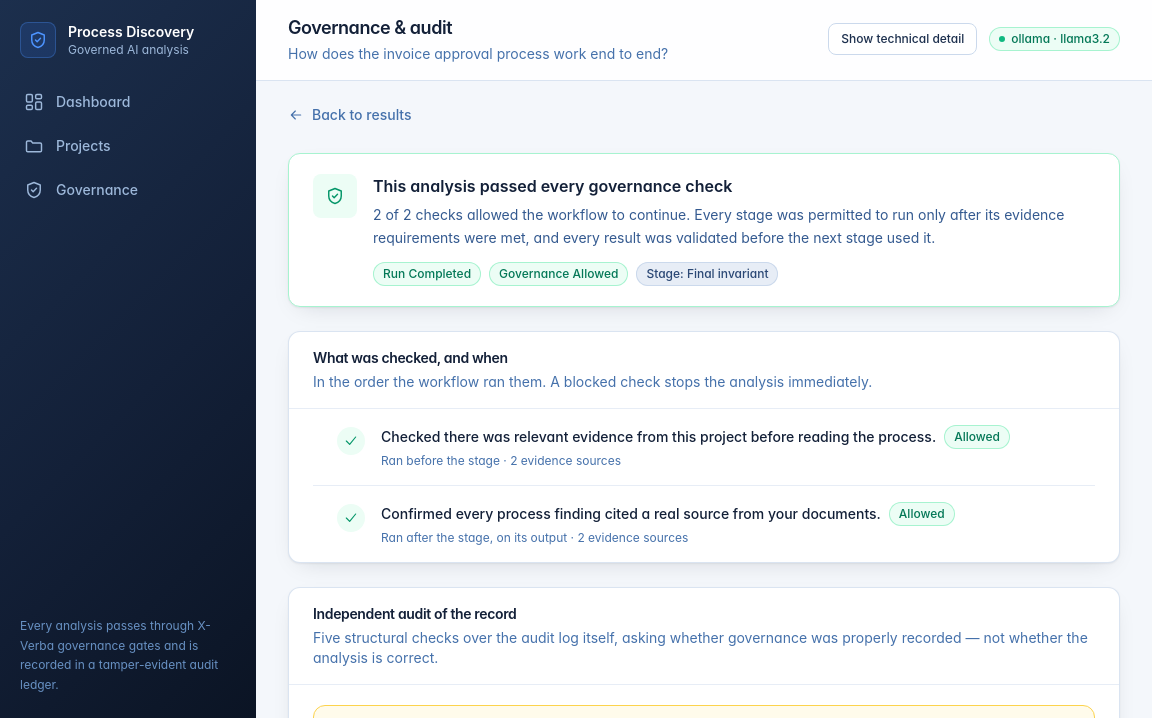
it: Governance and audit › hides jargon until the reader asks for it
The image size is (1152, 718).
expect the heading "This analysis passed every governance check" is shown: met, box [373,176,732,196]
Step 1. Click the button "Show technical detail" → click(903, 39), box [828,23,977,55]
(page scrolled)
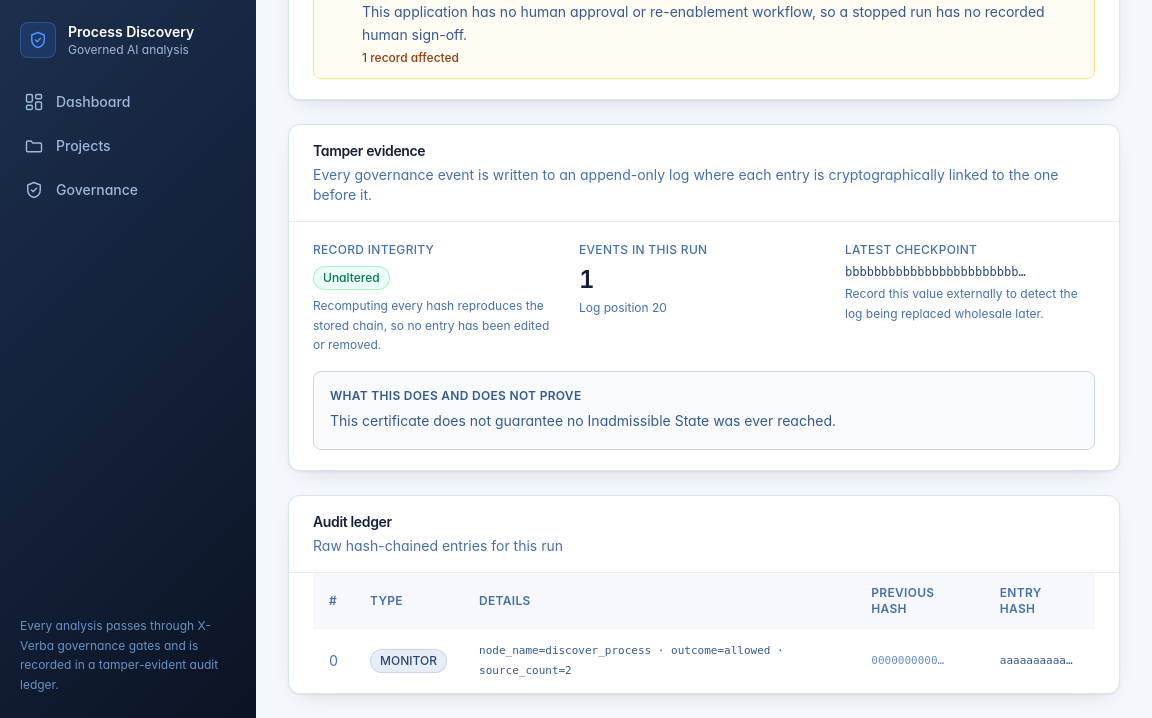
expect the heading "Audit ledger" is shown: met, box [313,512,392,530]
expect the text "MONITOR" is shown: met, box [370,648,447,672]
